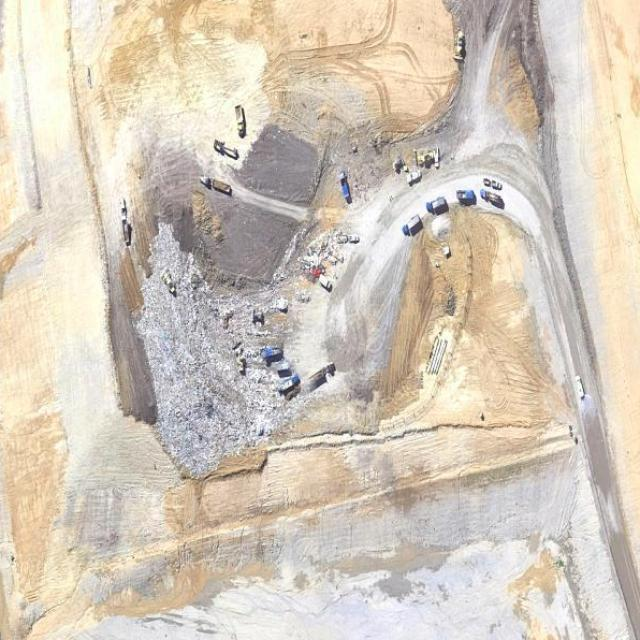dump_site: (118, 173, 312, 491), (268, 195, 351, 323)
